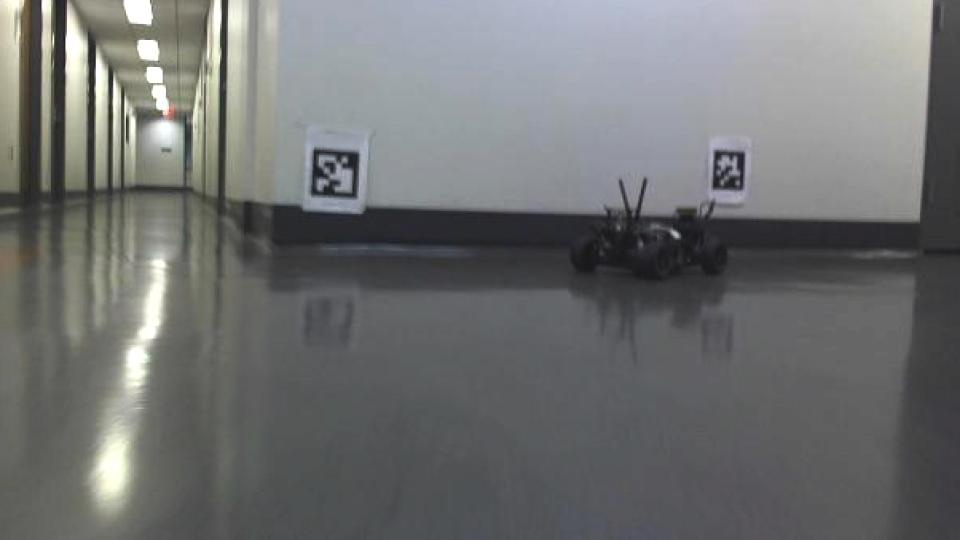car: (566, 173, 734, 284)
